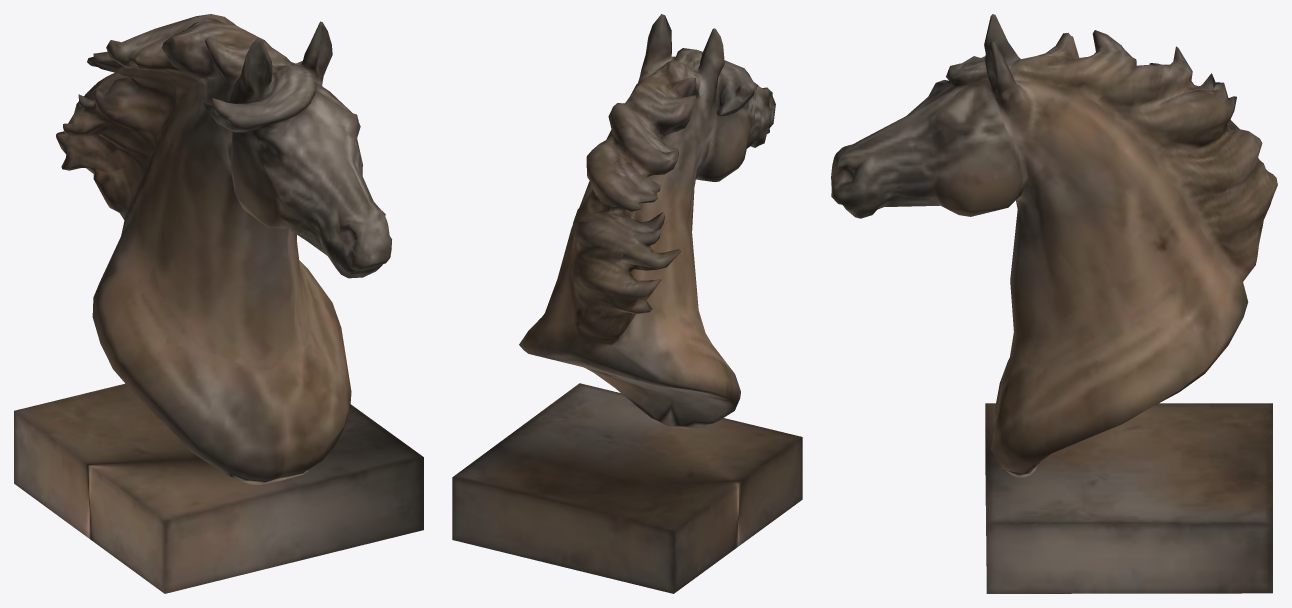
File: ph-horse-head.lod1.glb
3 views of the same model, side by side, from view 1: azimuth 30°, elevation 25°; view 2: azimuth 150°, elevation 25°; view 3: azimuth 270°, elevation 25° (orthographic). The views are drawn at different scales.
Parts seen in each view (by area): view 1: horse_head; view 2: horse_head; view 3: horse_head.
Part boxes in pixels (x1,y1,x2,y2): horse_head: (14, 14, 423, 593); horse_head: (452, 14, 802, 593); horse_head: (831, 14, 1277, 593).
Size of the model in its own units: 0.184 by 0.3586 by 0.2871.
Materials: 1 (1 with a texture image).
